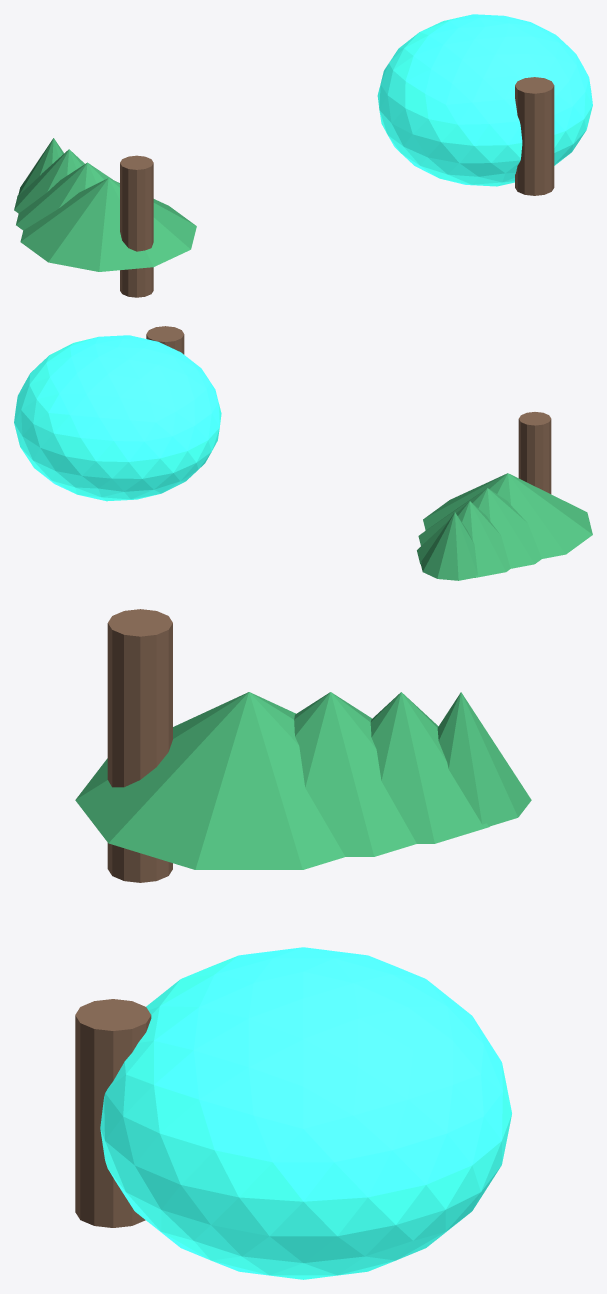
The model's file is fantasy_trees.glb.
3 renders of one model, top to bottom at view 1: azimuth 30°, elevation 25°; view 2: azimuth 150°, elevation 25°; view 3: azimuth 270°, elevation 25°, orthographic. The views are drawn at different scales.
Visible parts, largest first — view 1: Icosphere, Cone, Cylinder.001, Cylinder, Cone.001, Cone.002, Cone.003; view 2: Icosphere, Cone, Cone.001, Cone.003, Cylinder, Cone.002, Cylinder.001; view 3: Icosphere, Cone, Cylinder, Cone.001, Cylinder.001, Cone.002, Cone.003.
Boxes of the visible parts, x1,y1,x2,y2 form: Icosphere: (377,14,592,186); Cone: (20,178,196,271); Cylinder.001: (515,77,554,195); Cylinder: (120,155,153,297); Cone.001: (16,162,112,230); Cone.002: (14,149,84,213); Cone.003: (18,138,63,194); Icosphere: (14,335,221,501); Cone: (423,473,592,558); Cone.001: (418,488,541,568); Cone.003: (421,512,477,580); Cylinder: (518,412,551,493); Cone.002: (417,501,510,577); Cylinder.001: (146,326,184,354); Icosphere: (100,947,511,1279); Cone: (75,692,345,869); Cylinder: (107,609,172,882); Cone.001: (294,692,416,856); Cylinder.001: (75,999,151,1227); Cone.002: (370,692,489,843); Cone.003: (437,692,531,826).
Bounding box in the file's own units: 22.88 × 5.76 × 8.4.
